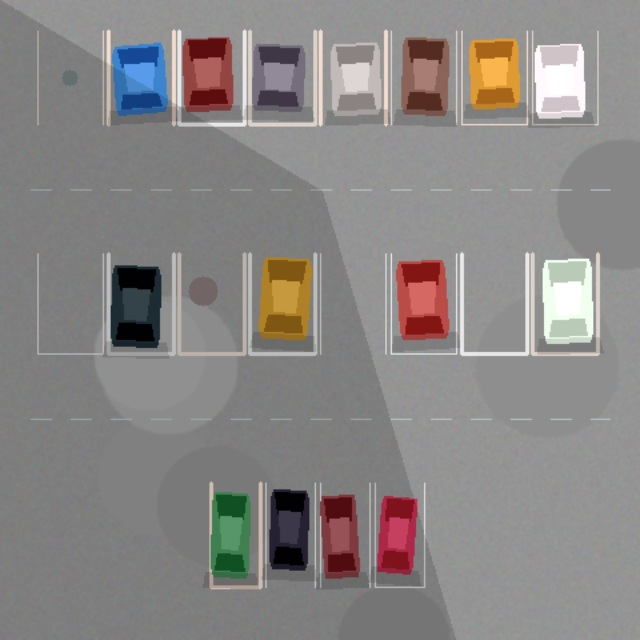space-empty: (37, 253, 103, 353), (461, 253, 527, 353), (179, 253, 244, 353), (320, 253, 385, 353), (37, 31, 103, 124)
space-occupied: (249, 253, 315, 353), (108, 253, 173, 353), (391, 253, 456, 353), (532, 253, 597, 353), (249, 31, 315, 124), (461, 31, 527, 124), (108, 31, 173, 124), (179, 31, 244, 124), (320, 31, 385, 124), (391, 31, 456, 124), (532, 31, 597, 124), (265, 483, 315, 587), (211, 483, 260, 587), (320, 483, 369, 587), (375, 483, 424, 587)
